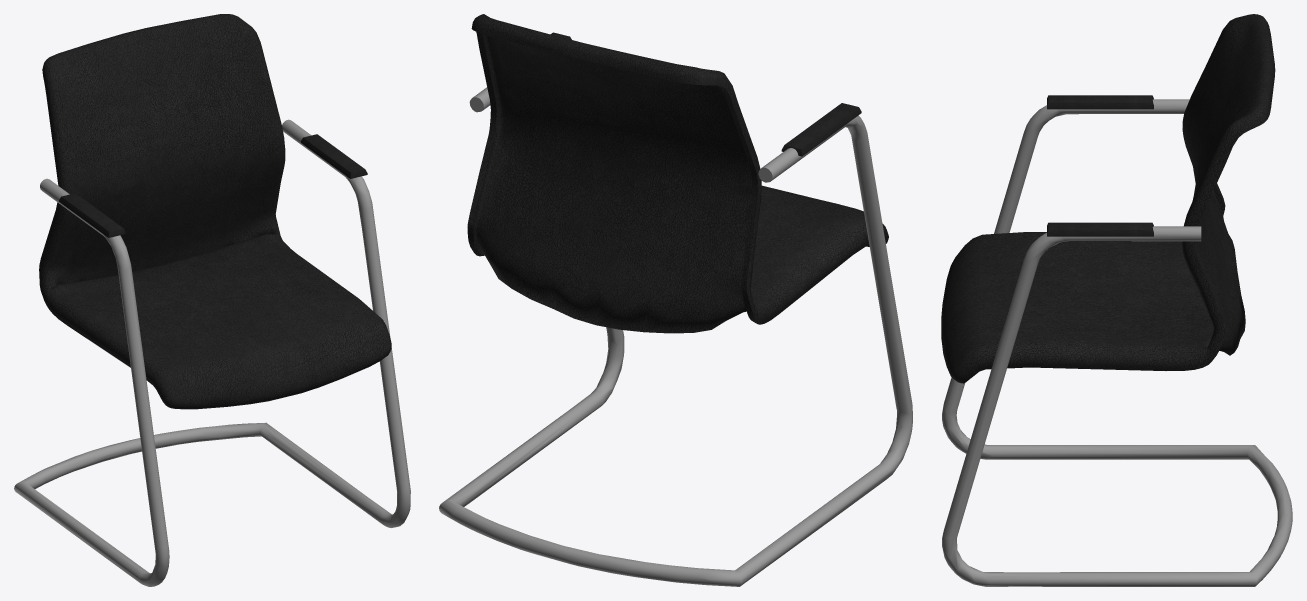
File: Chair.FBX
3 renders of one model, left to right at view 1: azimuth 30°, elevation 25°; view 2: azimuth 150°, elevation 25°; view 3: azimuth 270°, elevation 25°, orthographic. The views are drawn at different scales.
Parts seen in each view (by area): view 1: Chair 4; view 2: Chair 4; view 3: Chair 4.
Part boxes in pixels (x1,y1,x2,y2): Chair 4: (14,14,410,586); Chair 4: (439,14,912,586); Chair 4: (941,14,1292,586).
Bounding box in the file's own units: 59.49 × 94.21 × 64.86.
Materials: 2 (1 with a texture image).
